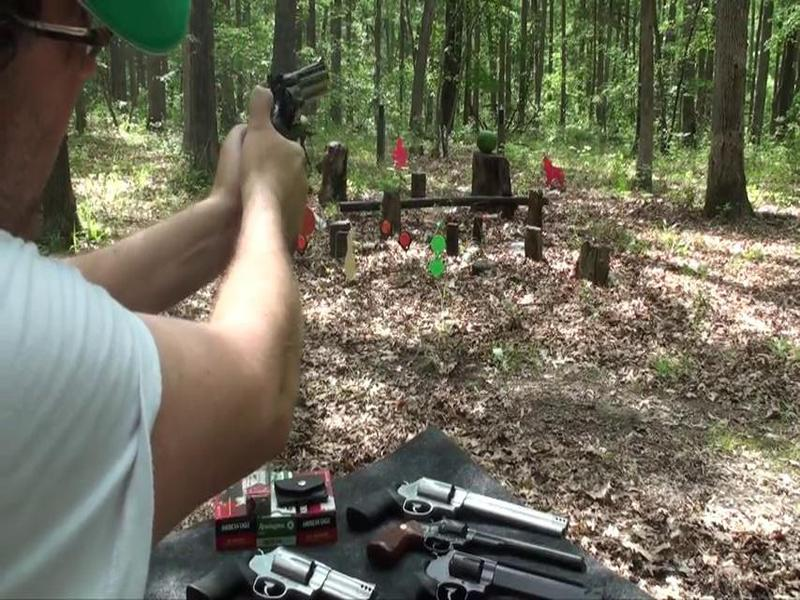Revolver: (246, 45, 348, 174)
